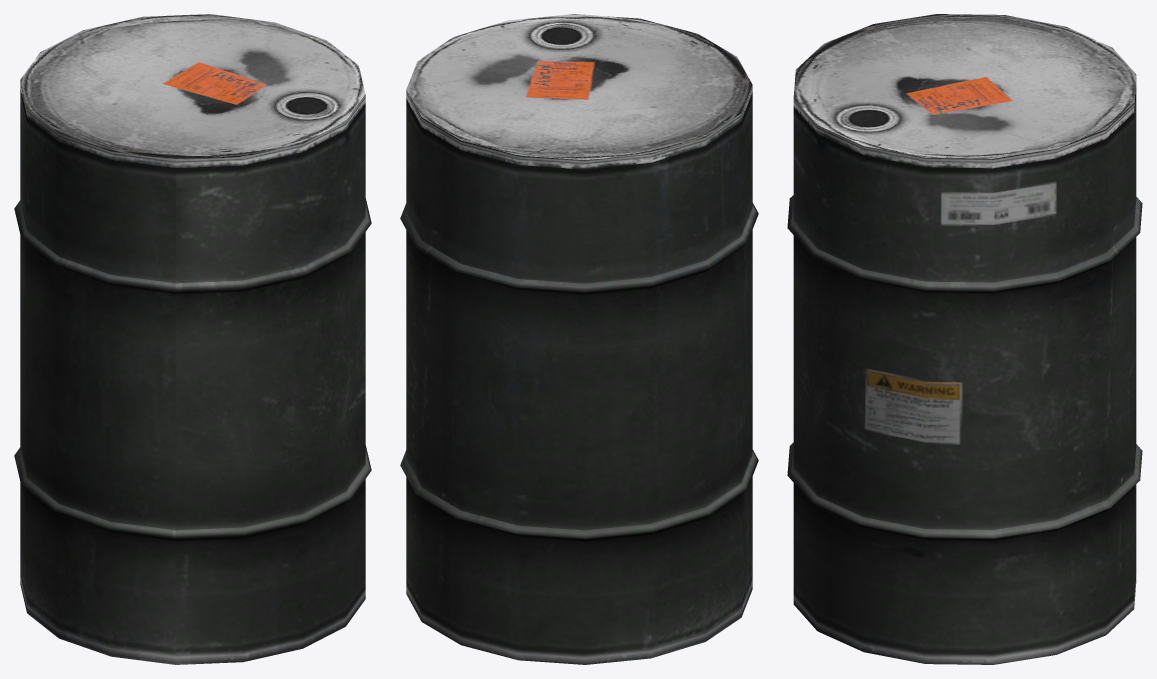
Rendered from pallet_barrels_water01_single.glb.
The picture shows the model from 3 angles, left to right: view 1: azimuth 30°, elevation 25°; view 2: azimuth 150°, elevation 25°; view 3: azimuth 270°, elevation 25°; orthographic projection.
Visible parts, largest first — view 1: pallet_barrels_water01_single; view 2: pallet_barrels_water01_single; view 3: pallet_barrels_water01_single.
Part boxes in pixels (box(x1,y1,x2,y2)): pallet_barrels_water01_single: box(14, 14, 371, 664); pallet_barrels_water01_single: box(400, 14, 758, 664); pallet_barrels_water01_single: box(787, 14, 1142, 664).
Size of the model in its own units: 0.5451 by 0.8573 by 0.5451.
1 material, 1 textured.
